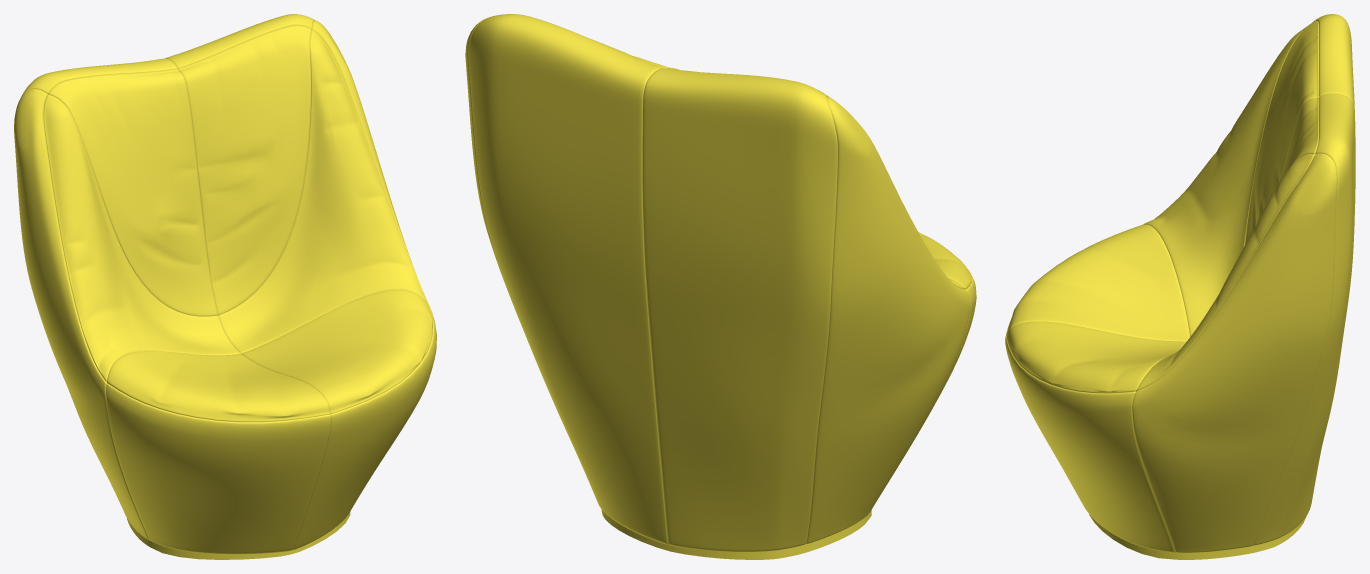
3 renders of one model, left to right at view 1: azimuth 30°, elevation 25°; view 2: azimuth 150°, elevation 25°; view 3: azimuth 270°, elevation 25°, orthographic. The views are drawn at different scales.
Parts seen in each view (by area): view 1: node-0; view 2: node-0; view 3: node-0.
Boxes of the visible parts, x1,y1,x2,y2 form: node-0: (14,14,436,559); node-0: (465,14,976,559); node-0: (1005,14,1355,559).
Bounding box in the file's own units: 0.8452 × 1 × 0.7331.
